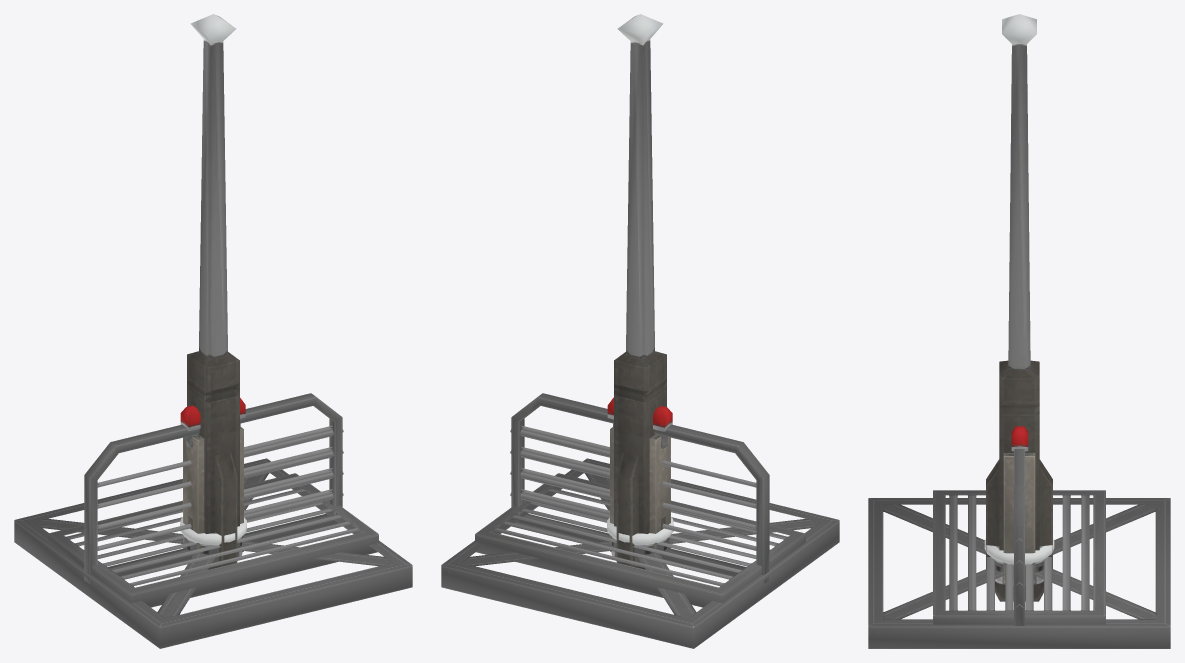
Rendered from Part - Kit Details-CR14hxgj.glb.
The picture shows the model from 3 angles, left to right: view 1: azimuth 30°, elevation 25°; view 2: azimuth 150°, elevation 25°; view 3: azimuth 270°, elevation 25°; orthographic projection. The views are drawn at different scales.
Parts seen in each view (by area): view 1: Cylinder.010, Cylinder.003, Cylinder.009, Cylinder.007, Cylinder.004, Cylinder.011, Cylinder.002, Cylinder.008; view 2: Cylinder.010, Cylinder.003, Cylinder.009, Cylinder.007, Cylinder.004, Cylinder.011, Cylinder.002, Cylinder.008; view 3: Cylinder.010, Cylinder.009, Cylinder.003, Cylinder.004, Cylinder.007, Cylinder.002.
Part boxes in pixels (left/top/right/bottom): Cylinder.010: left=14, top=458, right=412, bottom=648; Cylinder.003: left=187, top=14, right=239, bottom=533; Cylinder.009: left=48, top=473, right=378, bottom=607; Cylinder.007: left=84, top=393, right=342, bottom=584; Cylinder.004: left=183, top=426, right=243, bottom=569; Cylinder.011: left=244, top=429, right=343, bottom=520; Cylinder.002: left=180, top=517, right=246, bottom=566; Cylinder.008: left=180, top=398, right=245, bottom=448; Cylinder.010: left=441, top=458, right=839, bottom=648; Cylinder.003: left=614, top=14, right=666, bottom=533; Cylinder.009: left=475, top=473, right=805, bottom=607; Cylinder.007: left=511, top=393, right=769, bottom=584; Cylinder.004: left=610, top=426, right=670, bottom=569; Cylinder.011: left=510, top=429, right=609, bottom=520; Cylinder.002: left=607, top=517, right=673, bottom=566; Cylinder.008: left=607, top=397, right=672, bottom=448; Cylinder.010: left=868, top=498, right=1170, bottom=648; Cylinder.009: left=933, top=490, right=1105, bottom=624; Cylinder.003: left=999, top=14, right=1039, bottom=550; Cylinder.004: left=986, top=453, right=1052, bottom=601; Cylinder.007: left=1014, top=449, right=1024, bottom=625; Cylinder.002: left=984, top=539, right=1054, bottom=585.
Bounding box in the file's own units: 1.01 × 2.13 × 1.
Materials: 1 (1 with a texture image).
